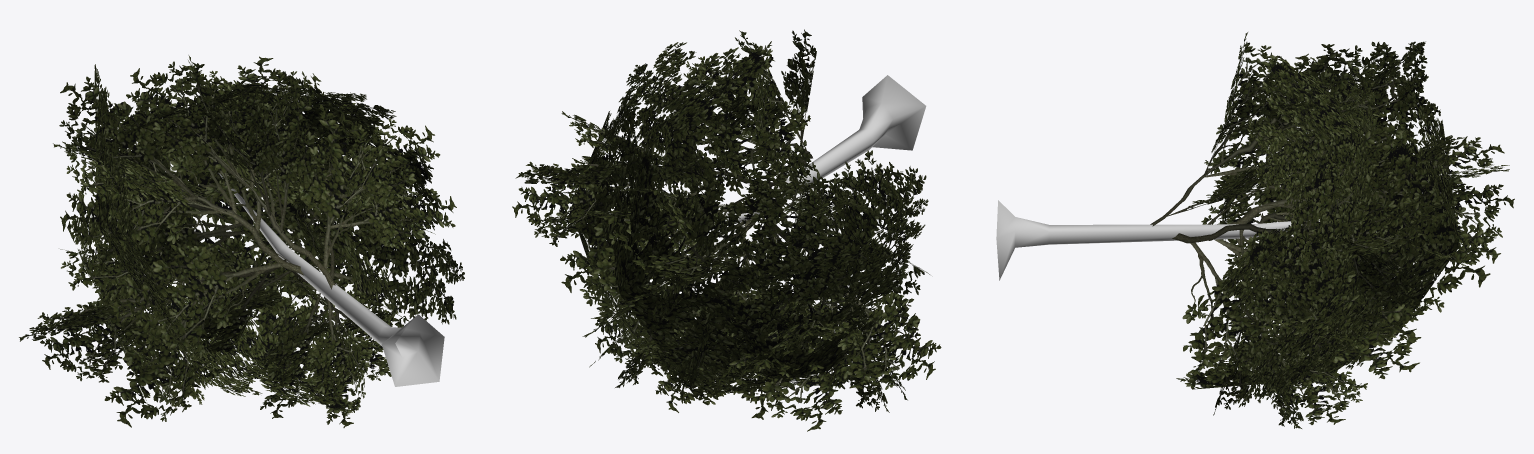
Rendered from MEP_Tree_02_b.fbx.
3 renders of one model, left to right at view 1: azimuth 30°, elevation 25°; view 2: azimuth 150°, elevation 25°; view 3: azimuth 270°, elevation 25°, orthographic. The views are drawn at different scales.
Visible parts, largest first — view 1: MEP_Leafs_02_b, MEP_TreeBark_01_b; view 2: MEP_Leafs_02_b, MEP_TreeBark_01_b; view 3: MEP_Leafs_02_b, MEP_TreeBark_01_b.
Part boxes in pixels (x1,y1,x2,y2): MEP_Leafs_02_b: (19,55,464,427); MEP_TreeBark_01_b: (218,172,444,386); MEP_Leafs_02_b: (512,29,941,431); MEP_TreeBark_01_b: (683,75,926,237); MEP_Leafs_02_b: (1150,32,1514,428); MEP_TreeBark_01_b: (996,200,1319,280).
Bounding box in the file's own units: 18.74 × 15.64 × 21.43.
